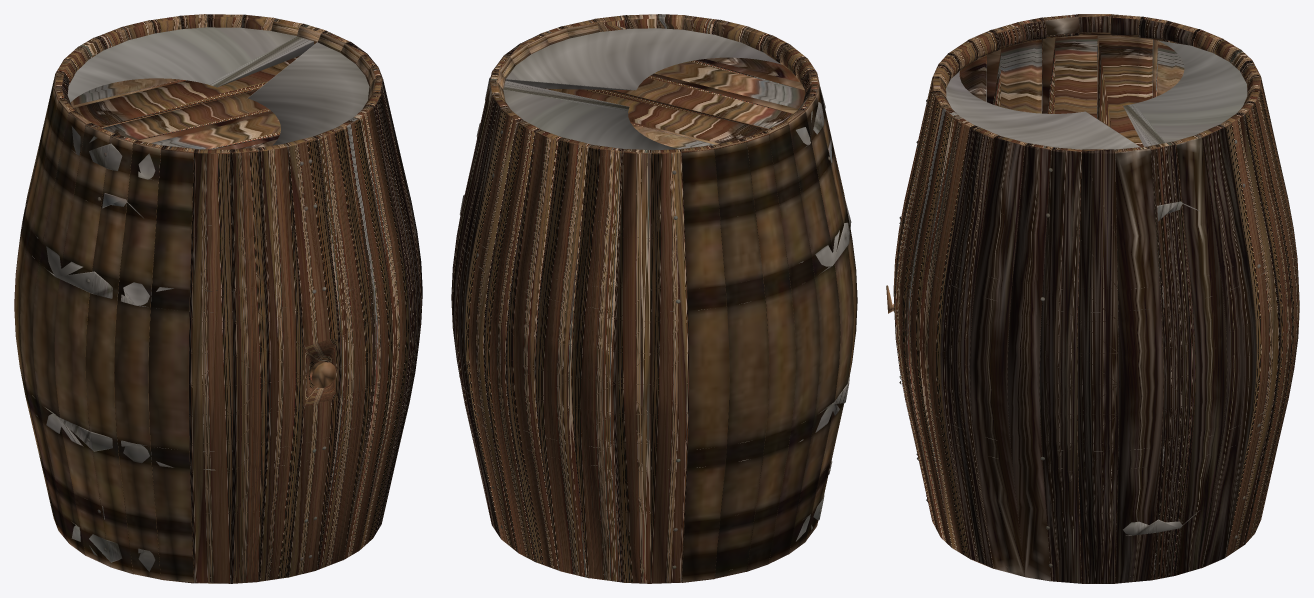
The model's file is barrel.glb.
The picture shows the model from 3 angles, left to right: view 1: azimuth 30°, elevation 25°; view 2: azimuth 150°, elevation 25°; view 3: azimuth 270°, elevation 25°; orthographic projection.
Parts seen in each view (by area): view 1: barrel; view 2: barrel; view 3: barrel.
Part boxes in pixels (bbox=[...]): barrel: bbox=[14, 14, 422, 583]; barrel: bbox=[451, 14, 857, 583]; barrel: bbox=[886, 14, 1299, 583].
Bounding box in the file's own units: 0.7419 × 0.8713 × 0.7553.
1 material, 1 textured.
